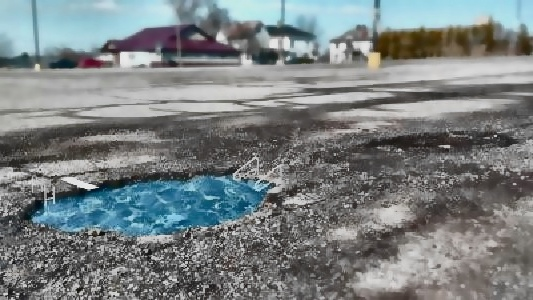pothole: (23, 166, 279, 235), (364, 127, 518, 153)
